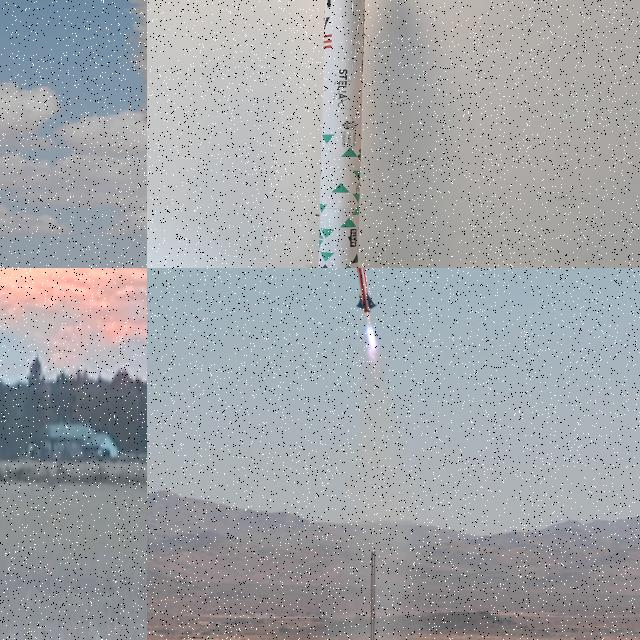Rocket: (318, 0, 365, 268), (347, 268, 379, 313)
